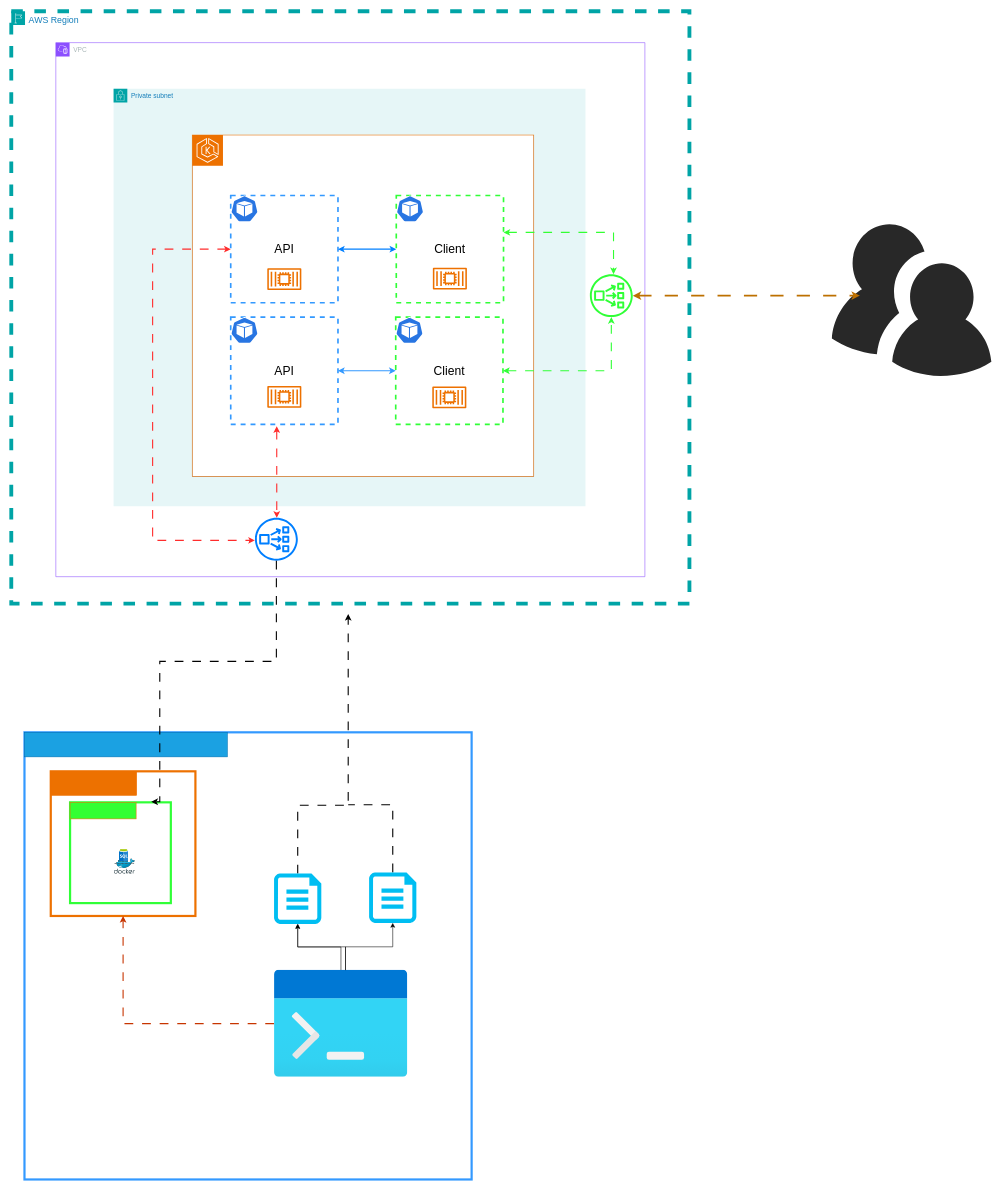
This 1001x1190 diagram has some shape labels left out. Each missing label, with the centre of its shape:
Privat Nätverk/Local nätverk: point (125, 744)
Proxmox Node: point (93, 783)
Ubuntu VM: point (103, 810)
